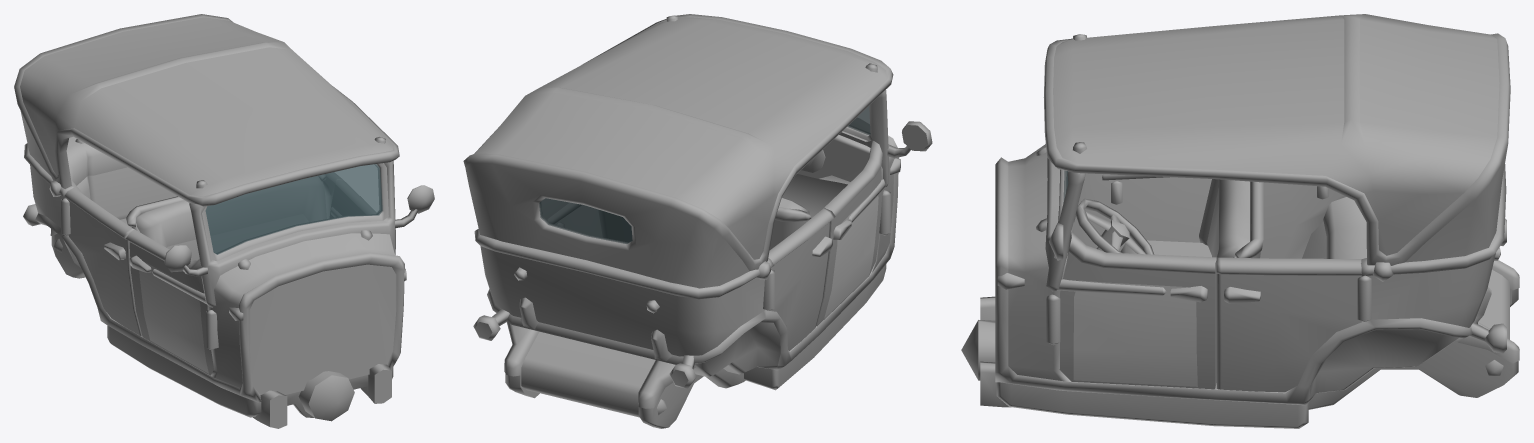
File: Body_Phaeton.fbx
3 views of the same model, side by side, from view 1: azimuth 30°, elevation 25°; view 2: azimuth 150°, elevation 25°; view 3: azimuth 270°, elevation 25° (orthographic). The views are drawn at different scales.
Parts seen in each view (by area): view 1: Phaeton_Body, Phaeton_Body_Roof, Phaeton_Body_Window, Phaeton_Body_Door_Rear_Right, Phaeton_Body_Door_Front_Right_Decal, Phaeton_Body_Door_Front_Right, Phaeton_Body_Door_Front_Left; view 2: Phaeton_Body_Roof, Phaeton_Body, Phaeton_Body_Door_Rear_Right, Phaeton_Body_Door_Front_Right, Phaeton_Body_Door_Front_Right_Decal, Phaeton_Body_Roof_Window, Phaeton_Body_Door_Rear_Left; view 3: Phaeton_Body_Roof, Phaeton_Body, Phaeton_Body_Door_Rear_Left, Phaeton_Body_Door_Front_Left_Decal, Phaeton_Body_Door_Front_Left, Phaeton_Body_Door_Front_Right, Phaeton_Body_Door_Rear_Right, Phaeton_Body_SteerWheel.
Part boxes in pixels (x1,y1,x2,y2): Phaeton_Body: (23,136,434,428); Phaeton_Body_Roof: (14,14,399,206); Phaeton_Body_Window: (205,164,382,254); Phaeton_Body_Door_Rear_Right: (64,187,142,336); Phaeton_Body_Door_Front_Right_Decal: (139,260,208,373); Phaeton_Body_Door_Front_Right: (126,229,213,375); Phaeton_Body_Door_Front_Left: (330,180,376,217); Phaeton_Body_Roof: (463,14,893,288); Phaeton_Body: (473,90,932,428); Phaeton_Body_Door_Rear_Right: (767,207,834,350); Phaeton_Body_Door_Front_Right: (816,141,885,326); Phaeton_Body_Door_Front_Right_Decal: (824,185,878,318); Phaeton_Body_Roof_Window: (539,198,632,243); Phaeton_Body_Door_Rear_Left: (541,198,602,236); Phaeton_Body_Roof: (1043,14,1510,265); Phaeton_Body: (961,143,1519,428); Phaeton_Body_Door_Rear_Left: (1216,257,1362,392); Phaeton_Body_Door_Front_Left_Decal: (1073,280,1197,386); Phaeton_Body_Door_Front_Left: (1057,231,1216,389); Phaeton_Body_Door_Front_Right: (1073,173,1211,251); Phaeton_Body_Door_Rear_Right: (1260,182,1346,258); Phaeton_Body_SteerWheel: (1075,198,1154,254).
Size of the model in its own units: 198 by 181 by 285.
